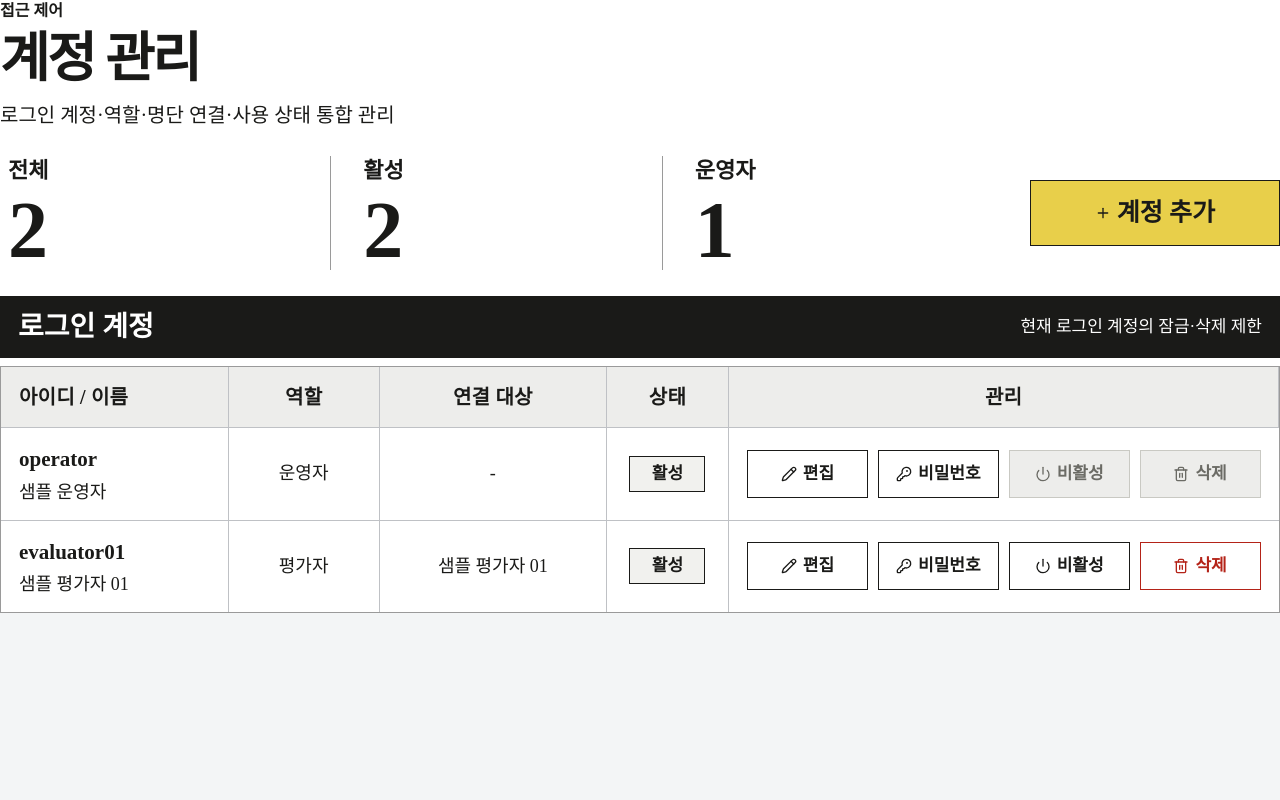
AccountManagementPanel › connects duplicate username errors to the username field
Click the button "계정 추가" at (1155, 213), box [1030,180,1279,246]
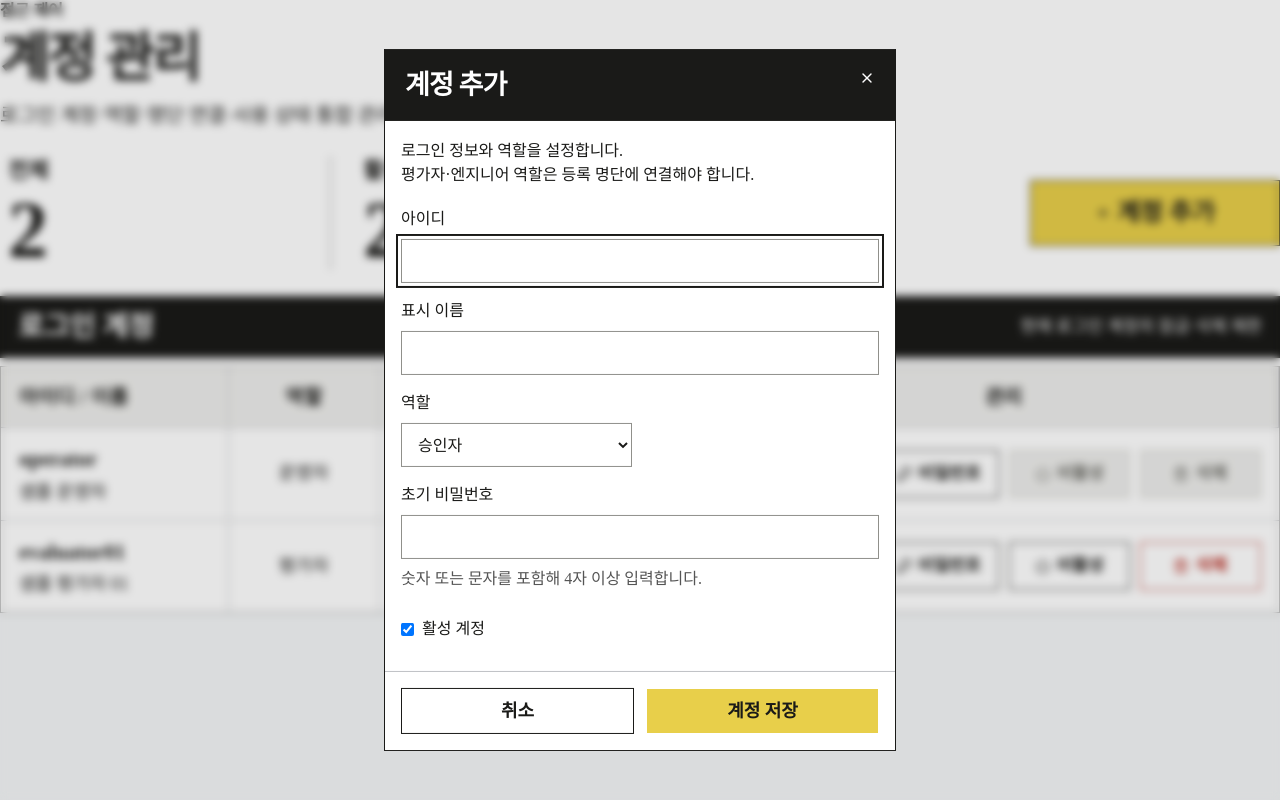
Type "operator" into the field labelled "아이디" at (640, 261), box [401,239,879,283]
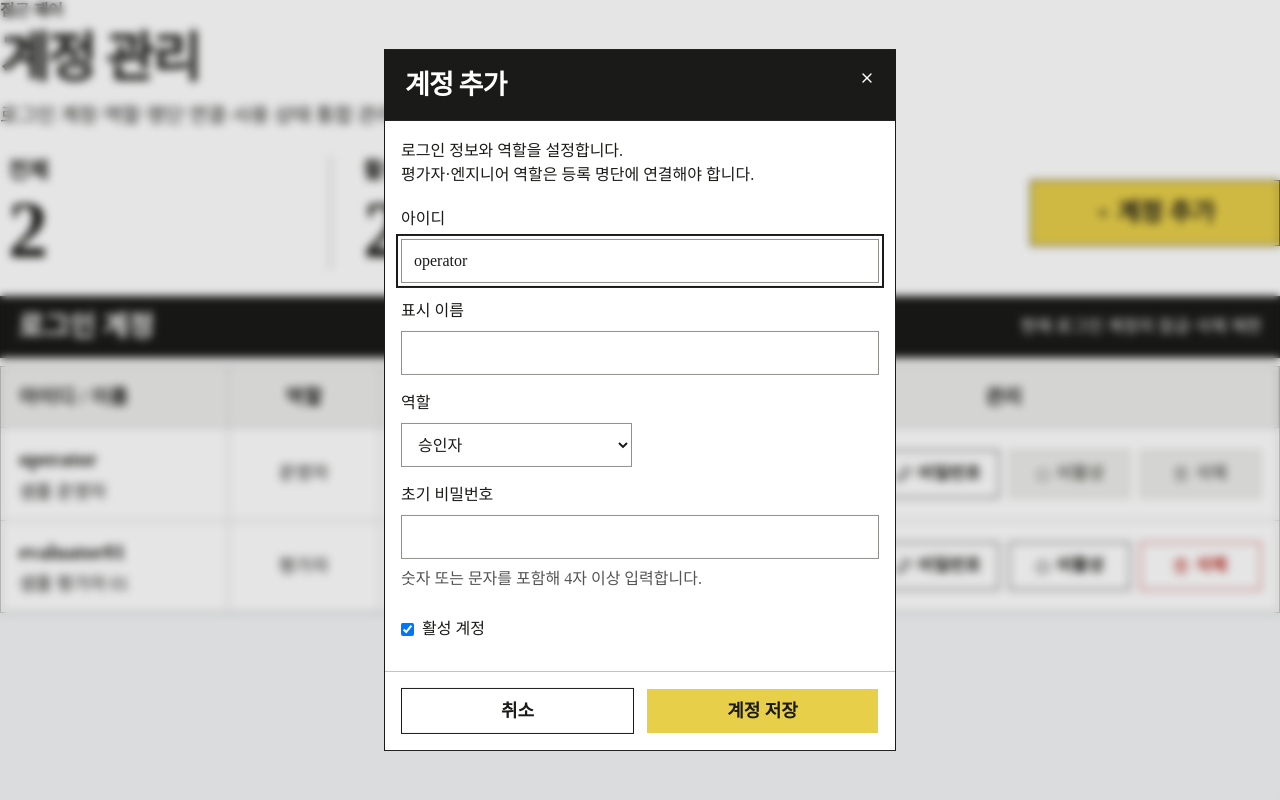
Type "새 운영자" into the field labelled "표시 이름" at (640, 353), box [401,331,879,375]
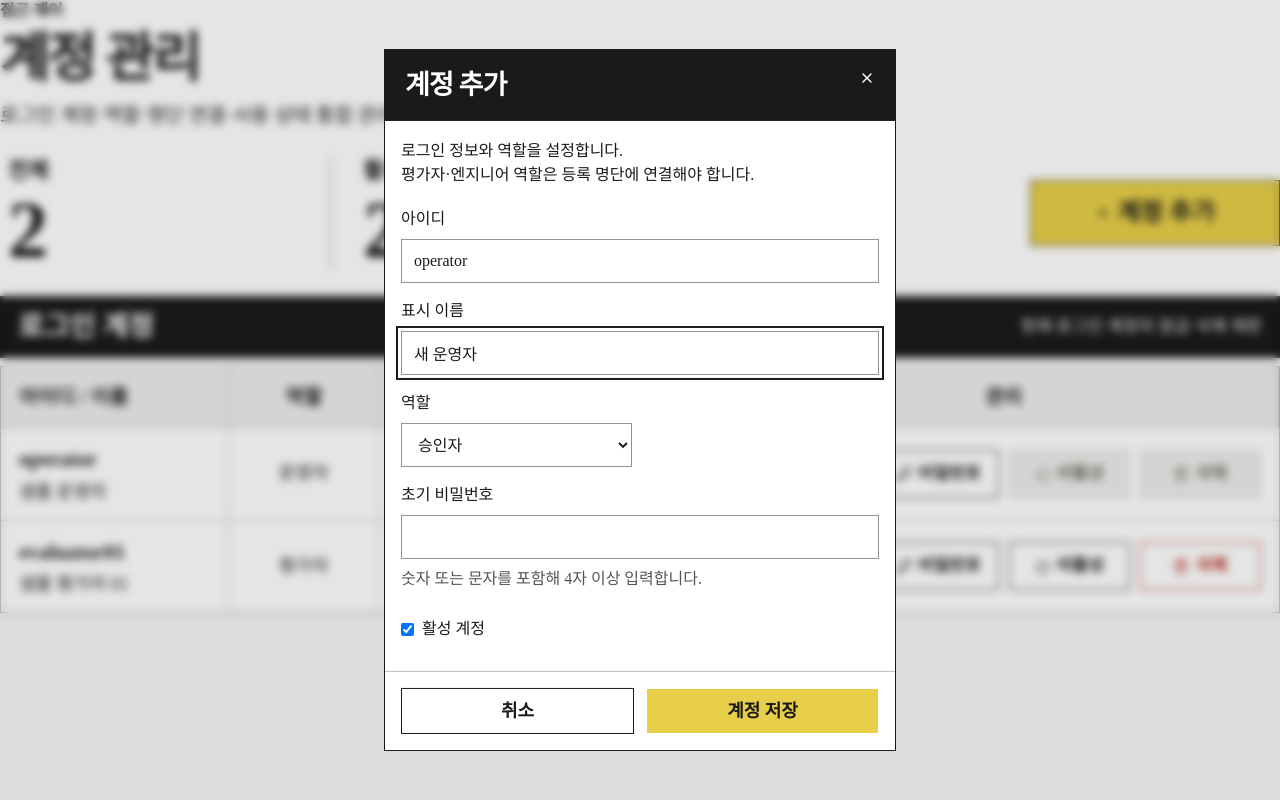
Type "Operator!2026" into the password field labelled "초기 비밀번호" at (640, 537), box [401,515,879,559]
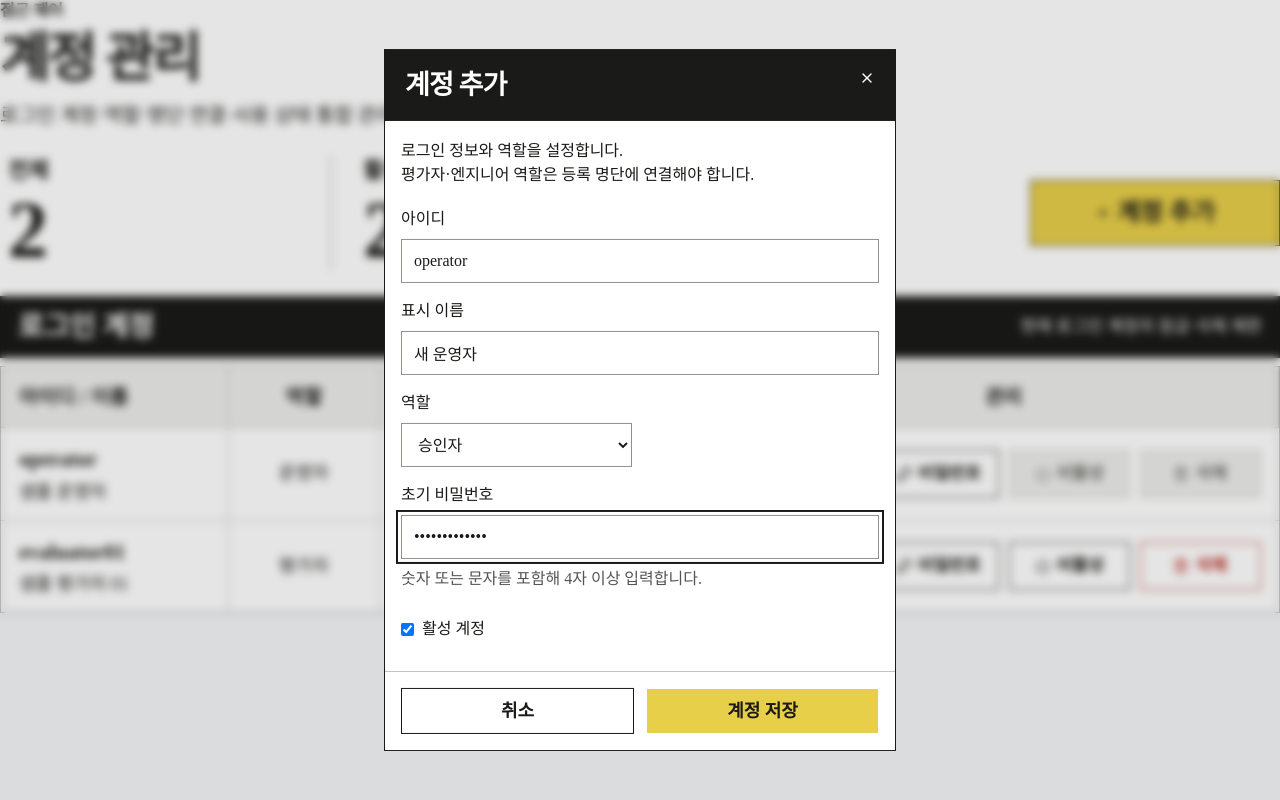
Click the button "계정 저장" at (762, 711), box [646,688,879,734]
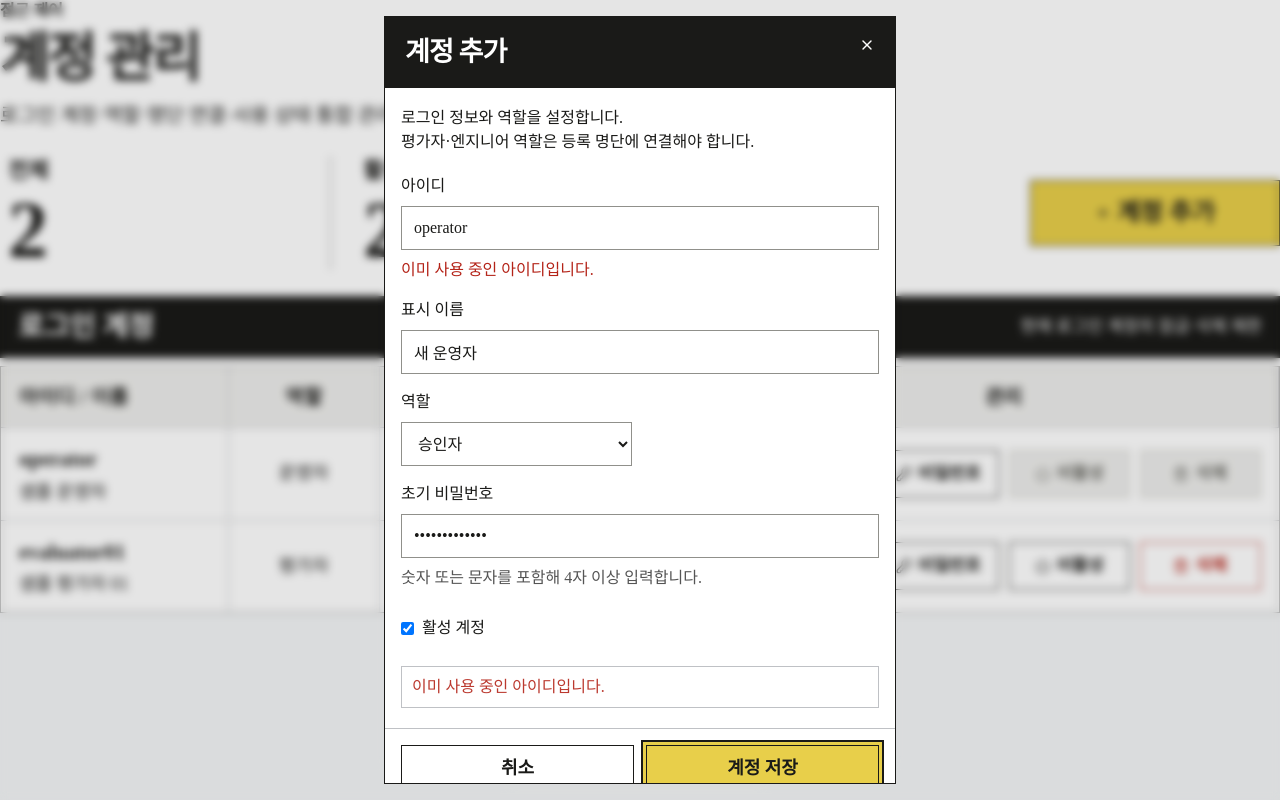
Now the text with test id "account-username-error" reads "이미 사용 중인 아이디입니다.", box [401,261,594,278]
